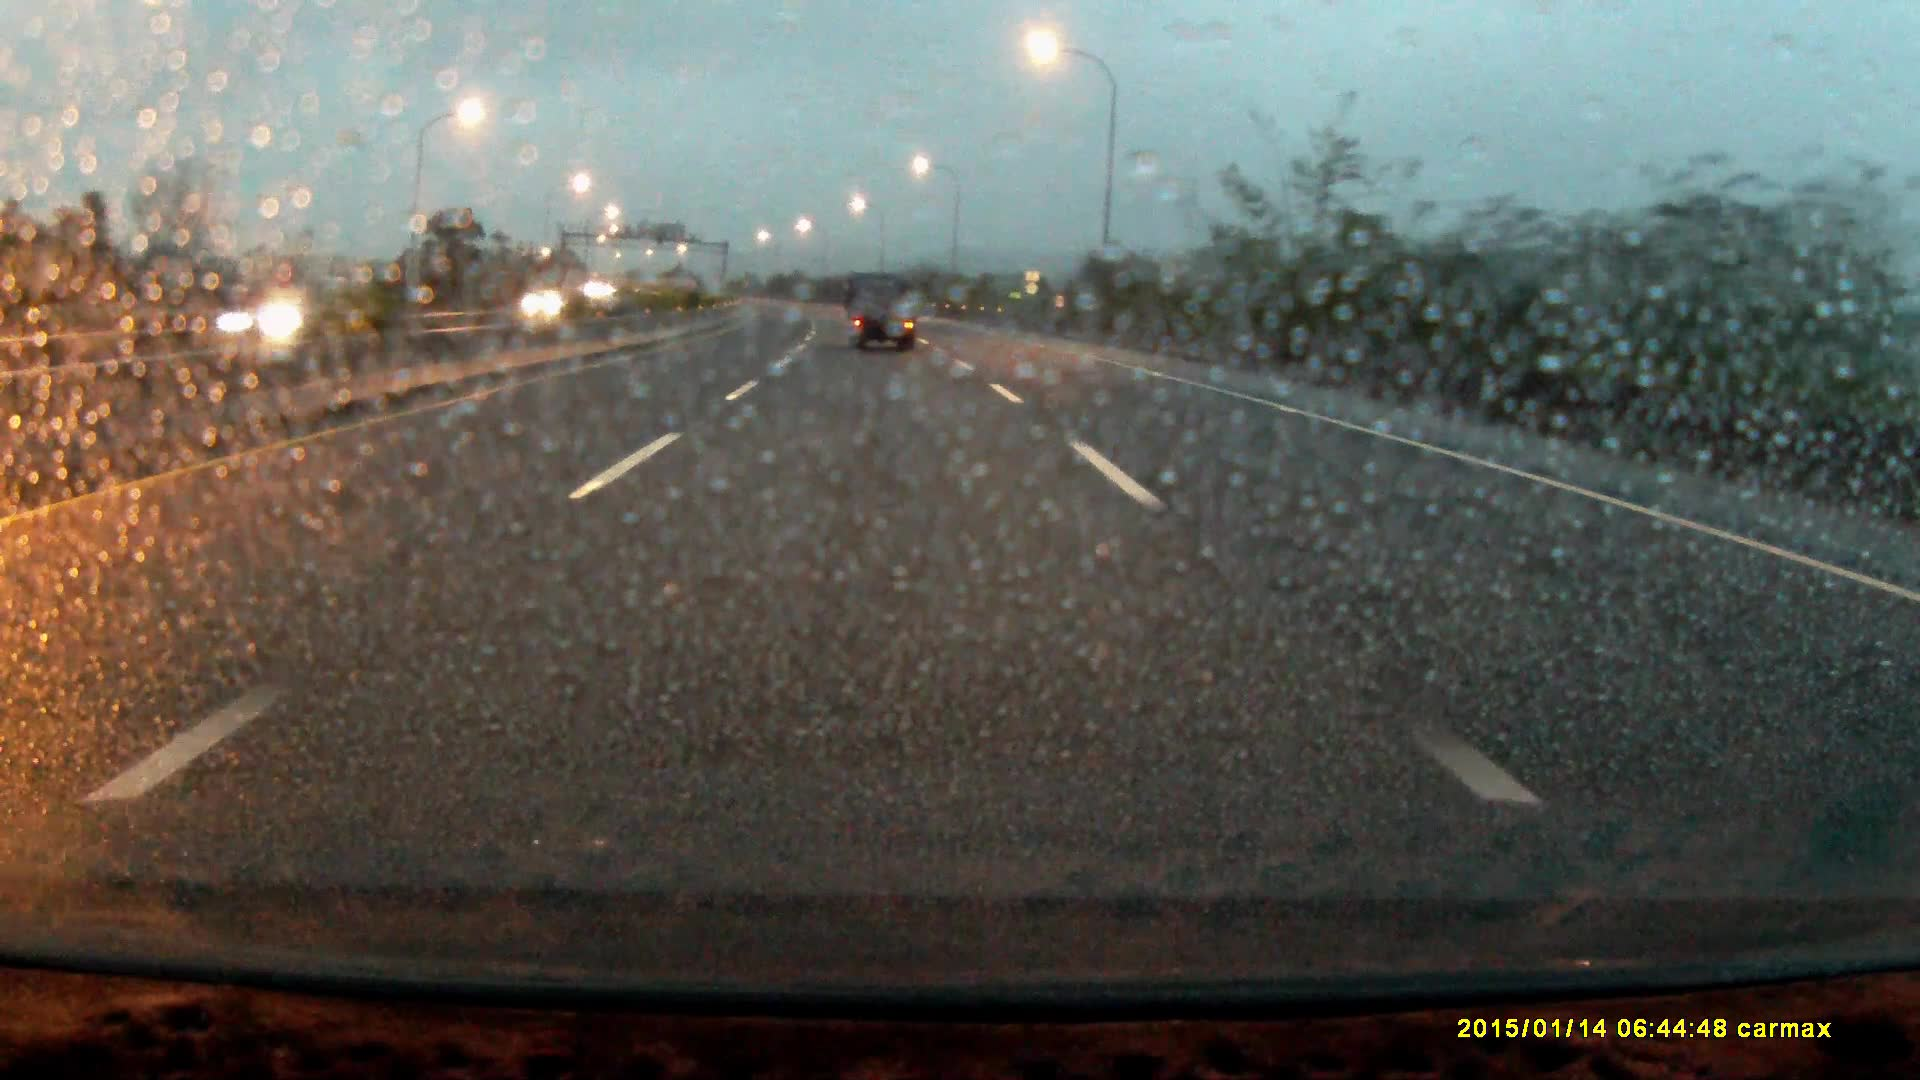vehicle: (219, 290, 361, 345), (844, 274, 918, 352), (520, 293, 579, 320)
